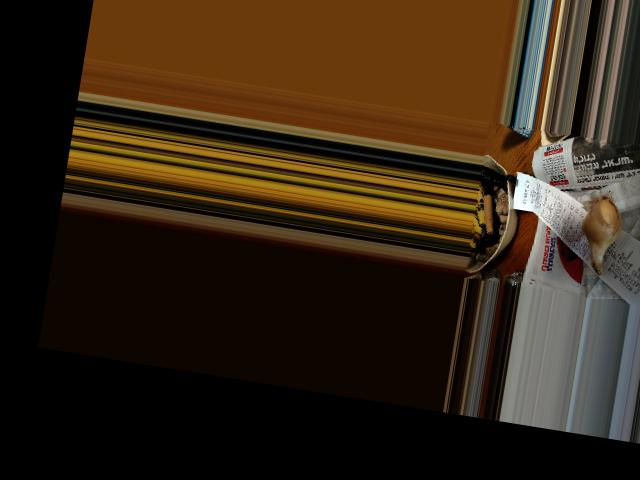onion: (578, 189, 622, 259)
